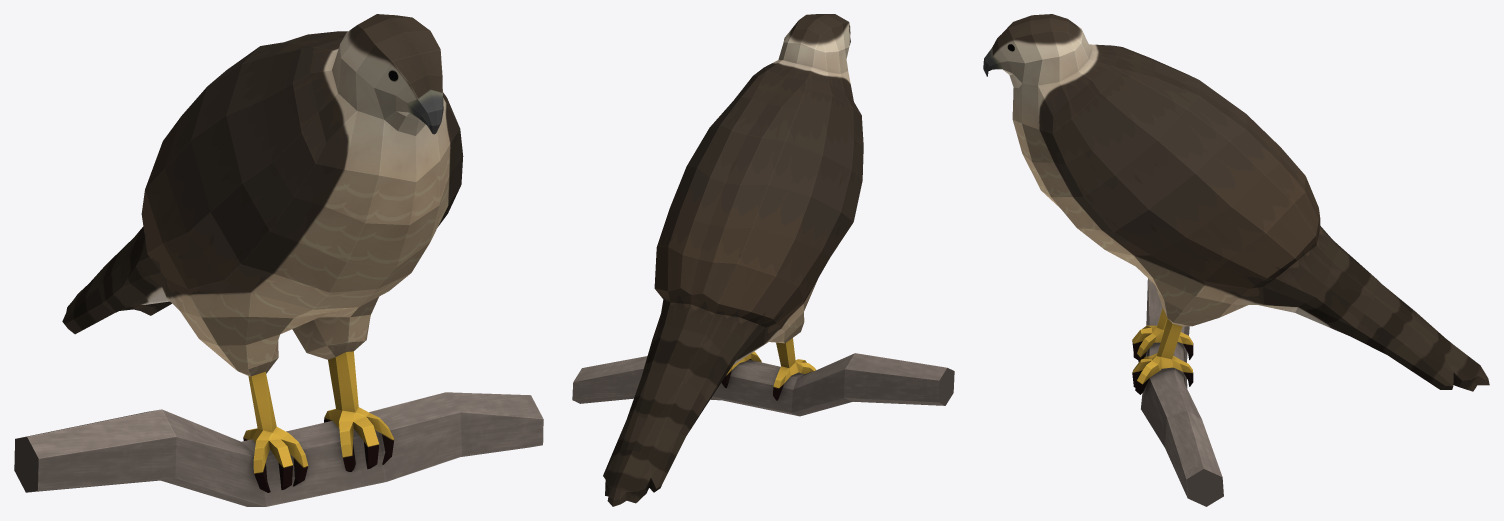
The picture shows the model from 3 angles, left to right: view 1: azimuth 30°, elevation 25°; view 2: azimuth 150°, elevation 25°; view 3: azimuth 270°, elevation 25°; orthographic projection. The views are drawn at different scales.
Visible parts, largest first — view 1: CoopersHawk_Mesh; view 2: CoopersHawk_Mesh; view 3: CoopersHawk_Mesh.
Part boxes in pixels (x1,y1,x2,y2): CoopersHawk_Mesh: (14, 14, 543, 506); CoopersHawk_Mesh: (572, 14, 954, 506); CoopersHawk_Mesh: (983, 14, 1489, 506).
Size of the model in its own units: 3.36 by 3.44 by 3.92.
Materials: 1 (1 with a texture image).
